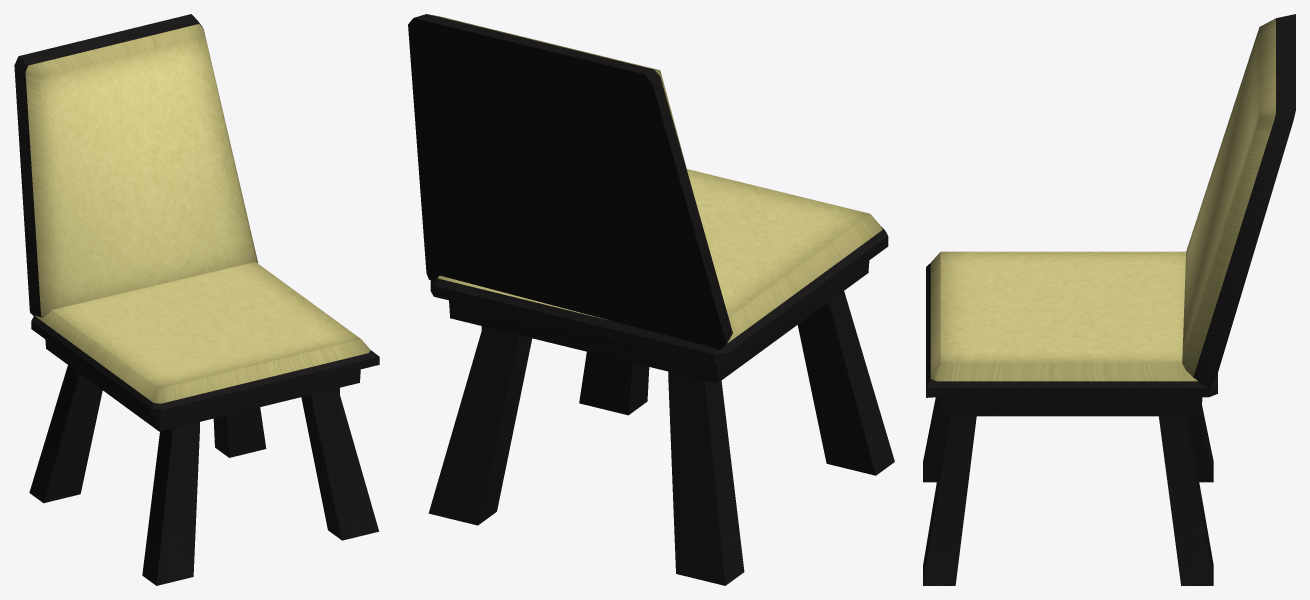
The model's file is Dining_Room_Chair_F.FBX.
3 renders of one model, left to right at view 1: azimuth 30°, elevation 25°; view 2: azimuth 150°, elevation 25°; view 3: azimuth 270°, elevation 25°, orthographic. The views are drawn at different scales.
Visible parts, largest first — view 1: Dining_Chair; view 2: Dining_Chair; view 3: Dining_Chair.
Part boxes in pixels (box(x1,y1,x2,y2)): Dining_Chair: box(14, 14, 379, 585); Dining_Chair: box(408, 14, 894, 585); Dining_Chair: box(923, 14, 1295, 585).
Size of the model in its own units: 121 by 208 by 152.
